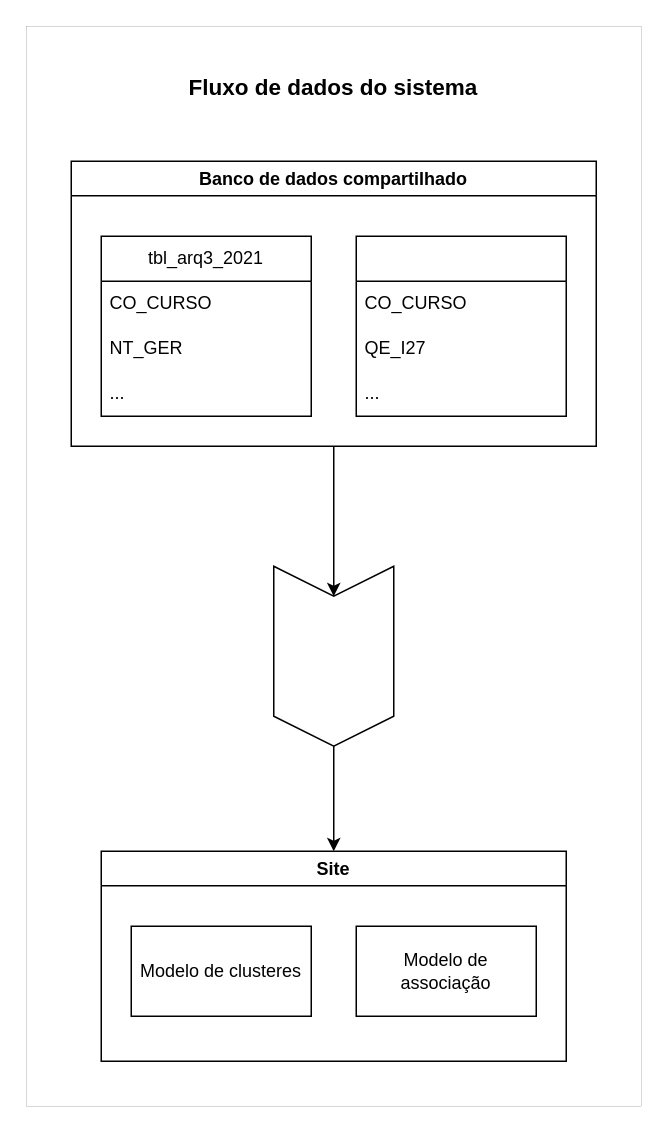
The diagram is 666 pixels wide and 1131 high, and some of its shapes have lost their labels. Here are the shapes that lost their labels. From the top down, the box of each, then its label:
(355, 235, 566, 416): tbl_arq4_2021
(272, 565, 394, 746): API Backend
